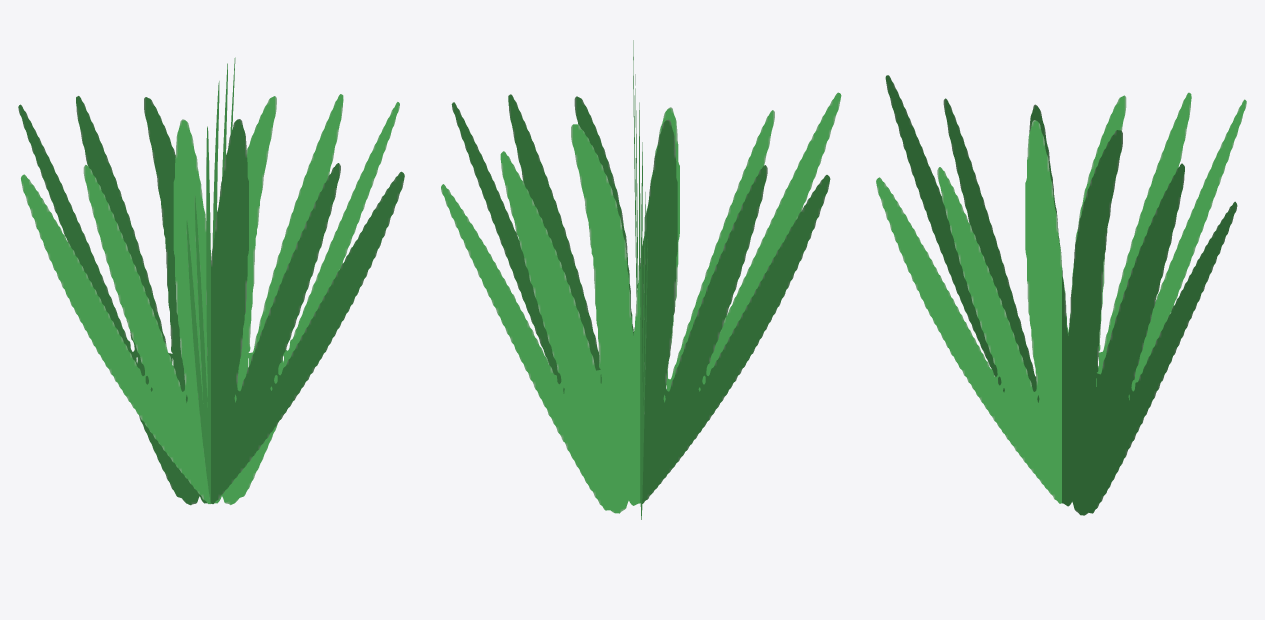
Rendered from GramaBlender.fbx.
3 views of the same model, side by side, from view 1: azimuth 30°, elevation 25°; view 2: azimuth 150°, elevation 25°; view 3: azimuth 270°, elevation 25° (orthographic).
Parts seen in each view (by area): view 1: Grama; view 2: Grama; view 3: Grama.
Part boxes in pixels (<box>): Grama: <box>18,57,404,505</box>; Grama: <box>441,40,841,519</box>; Grama: <box>876,75,1246,515</box>.
Size of the model in its own units: 52.8 by 52.8 by 44.79.
